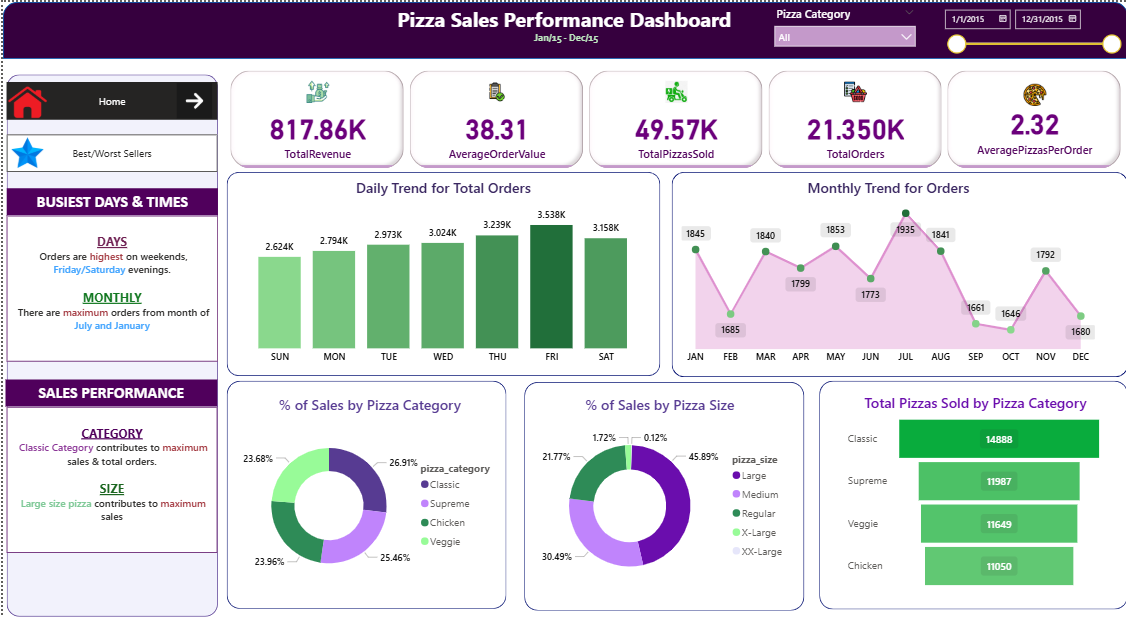

This screenshot's page, from the dashboard's own definition file:
{"tool":"powerbi","page":{"name":"Home","canvas":[1500,820],"ordinal":0},"visuals":[{"type":"cardVisual","fields":{"Data":["pizza_sales.TotalRevenue","pizza_sales.AverageOrderValue","pizza_sales.TotalPizzasSold","pizza_sales.TotalOrders","pizza_sales.AveragePizzasPerOrder"]},"box":[298.3,87.3,1201.7,140],"z":0},{"type":"shape","box":[0,0,1500,75.7],"z":1000},{"type":"textbox","box":[500,0,496.7,46.7],"z":2000},{"type":"textbox","box":[692.5,32.5,115,30],"z":3000},{"type":"shape","box":[891.7,227.3,608.3,273.3],"z":4000},{"type":"shape","box":[298,227,578,272],"z":5000},{"type":"shape","box":[298.6,505.7,372.9,304.3],"z":6000},{"type":"columnChart","title":"Daily Trend for Total Orders","fields":{"Y":["pizza_sales.TotalOrders"],"Category":["pizza_sales.OrderDay"]},"box":[307,235,561,257],"z":7000},{"type":"shape","box":[4.3,97.1,281.4,722.9],"z":8000},{"type":"areaChart","title":"Monthly Trend for Orders","fields":{"Category":["pizza_sales.MonthDay"],"Y":["pizza_sales.TotalOrders"]},"box":[900,235,561,257],"z":9000},{"type":"shape","box":[695,506.7,373.3,305],"z":10000},{"type":"shape","box":[1088.3,505,411.7,305],"z":11000},{"type":"donutChart","title":"% of Sales by Pizza Category","fields":{"Category":["pizza_sales.pizza_category"],"Y":["pizza_sales.TotalRevenue"]},"box":[308,524,362,272],"z":12000},{"type":"donutChart","title":"% of Sales by Pizza Size","fields":{"Category":["pizza_sales.pizza_size"],"Y":["pizza_sales.TotalRevenue"]},"box":[695,523.8,361.9,272.5],"z":13000},{"type":"funnel","title":"Total Pizzas Sold by Pizza Category","fields":{"Category":["pizza_sales.pizza_category"],"Y":["Sum(pizza_sales.quantity)"]},"box":[1121.7,521.7,350,266.7],"z":14000},{"type":"textbox","box":[4.3,248.6,281.4,35.7],"z":15000},{"type":"textbox","box":[4.3,284.3,281.4,194.3],"z":16000},{"type":"textbox","box":[4,504,282,36],"z":17000},{"type":"textbox","box":[5,540,281,194],"z":18000},{"type":"slicer","fields":{"Values":["pizza_sales.pizza_category"]},"box":[1017.5,0,208.8,61.2],"z":19000},{"type":"slicer","fields":{"Values":["pizza_sales.order_date"]},"box":[1243.8,0,256.2,76.2],"z":20000},{"type":"pageNavigator","box":[4.3,107.1,281.4,50],"z":21000},{"type":"pageNavigator","box":[4.3,177.1,281.4,50],"z":22000},{"type":"image","box":[211.6,103.7,86.8,57.4],"z":23000},{"type":"image","box":[0,98.9,65.6,65.6],"z":24000},{"type":"image","box":[6.7,174.4,52.2,52.2],"z":25000}]}

Visuals, with their boxes in screenshot pixels (x1, y1, x2, y2), scaled from the page's 1500x820 canvas onto the 1126x617 screenshot:
cardVisual - pizza_sales.TotalRevenue x pizza_sales.AverageOrderValue: {"left": 224, "top": 66, "right": 1125, "bottom": 171}
shape: {"left": 0, "top": 0, "right": 1125, "bottom": 57}
textbox: {"left": 375, "top": 0, "right": 748, "bottom": 35}
textbox: {"left": 520, "top": 24, "right": 606, "bottom": 47}
shape: {"left": 669, "top": 171, "right": 1125, "bottom": 377}
shape: {"left": 224, "top": 171, "right": 658, "bottom": 375}
shape: {"left": 224, "top": 381, "right": 504, "bottom": 609}
"Daily Trend for Total Orders" columnChart: {"left": 230, "top": 177, "right": 652, "bottom": 370}
shape: {"left": 3, "top": 73, "right": 214, "bottom": 616}
"Monthly Trend for Orders" areaChart: {"left": 676, "top": 177, "right": 1097, "bottom": 370}
shape: {"left": 522, "top": 381, "right": 802, "bottom": 611}
shape: {"left": 817, "top": 380, "right": 1125, "bottom": 609}
"% of Sales by Pizza Category" donutChart: {"left": 231, "top": 394, "right": 503, "bottom": 599}
"% of Sales by Pizza Size" donutChart: {"left": 522, "top": 394, "right": 793, "bottom": 599}
"Total Pizzas Sold by Pizza Category" funnel: {"left": 842, "top": 393, "right": 1105, "bottom": 593}
textbox: {"left": 3, "top": 187, "right": 214, "bottom": 214}
textbox: {"left": 3, "top": 214, "right": 214, "bottom": 360}
textbox: {"left": 3, "top": 379, "right": 215, "bottom": 406}
textbox: {"left": 4, "top": 406, "right": 215, "bottom": 552}
slicer - pizza_sales.pizza_category: {"left": 764, "top": 0, "right": 921, "bottom": 46}
slicer - pizza_sales.order_date: {"left": 934, "top": 0, "right": 1125, "bottom": 57}
pageNavigator: {"left": 3, "top": 81, "right": 214, "bottom": 118}
pageNavigator: {"left": 3, "top": 133, "right": 214, "bottom": 171}
image: {"left": 159, "top": 78, "right": 224, "bottom": 121}
image: {"left": 0, "top": 74, "right": 49, "bottom": 124}
image: {"left": 5, "top": 131, "right": 44, "bottom": 171}
